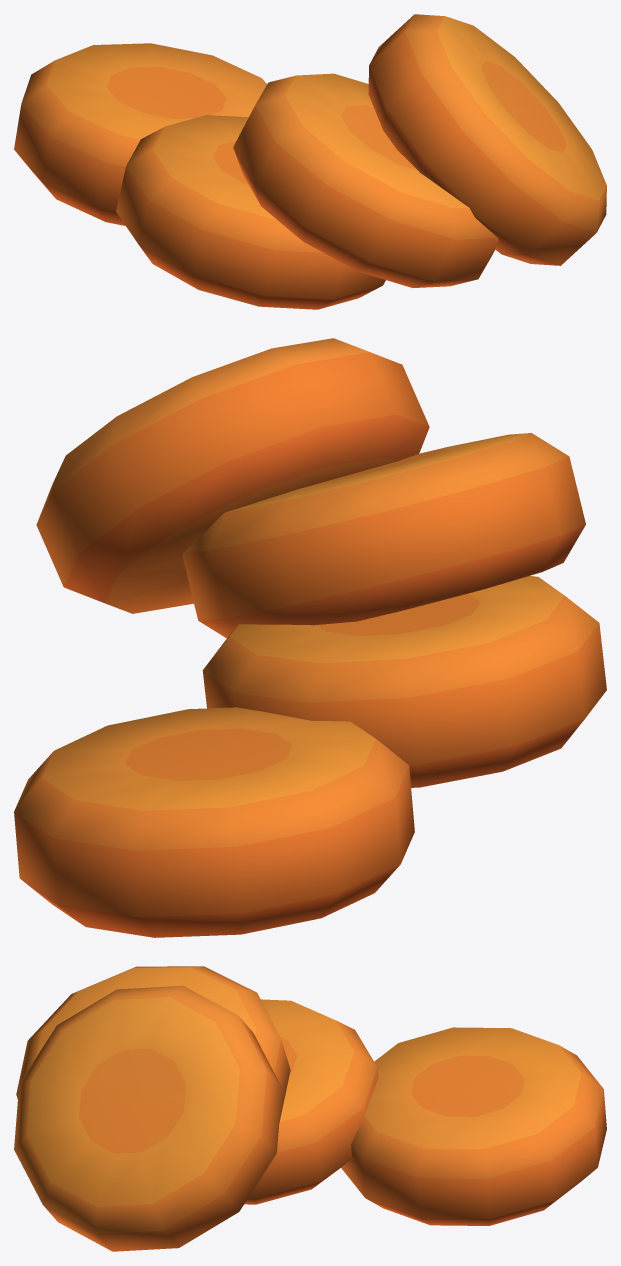
File: kaykit-restaurant-bits-food-ingredient-carrot-pieces.glb
3 renders of one model, top to bottom at view 1: azimuth 30°, elevation 25°; view 2: azimuth 150°, elevation 25°; view 3: azimuth 270°, elevation 25°, orthographic. The views are drawn at different scales.
Visible parts, largest first — view 1: food_ingredient_carrot_pieces; view 2: food_ingredient_carrot_pieces; view 3: food_ingredient_carrot_pieces.
Part boxes in pixels (x1,y1,x2,y2): food_ingredient_carrot_pieces: [14, 14, 606, 309]; food_ingredient_carrot_pieces: [14, 338, 606, 937]; food_ingredient_carrot_pieces: [14, 966, 606, 1251].
Size of the model in its own units: 0.543 by 0.3226 by 0.7191.
Materials: 1 (1 with a texture image).
